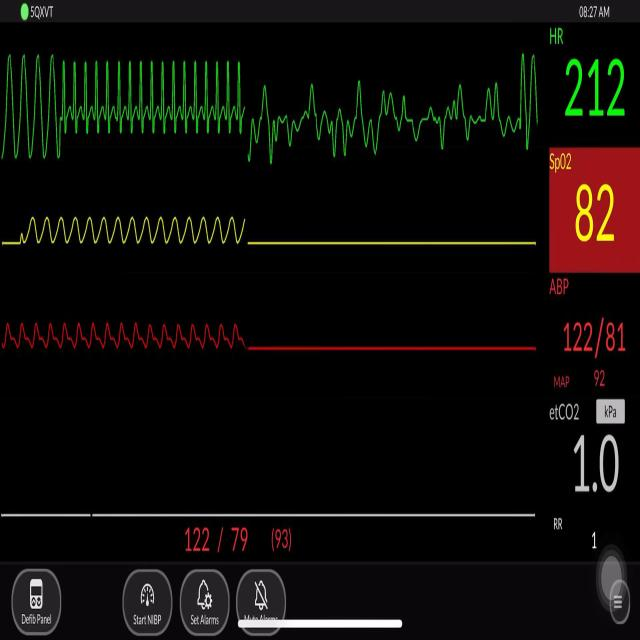danger: (67, 47, 253, 148), (10, 40, 63, 173)
